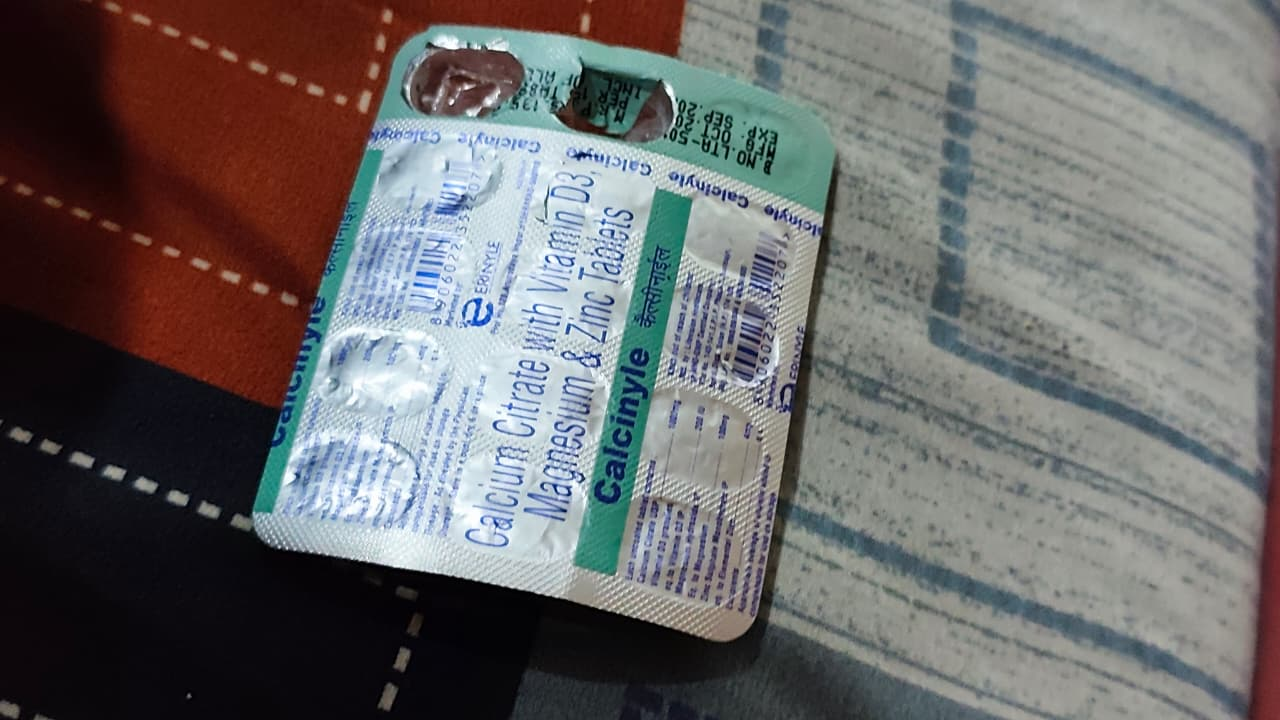MedicineStrip: (269, 30, 760, 645)
